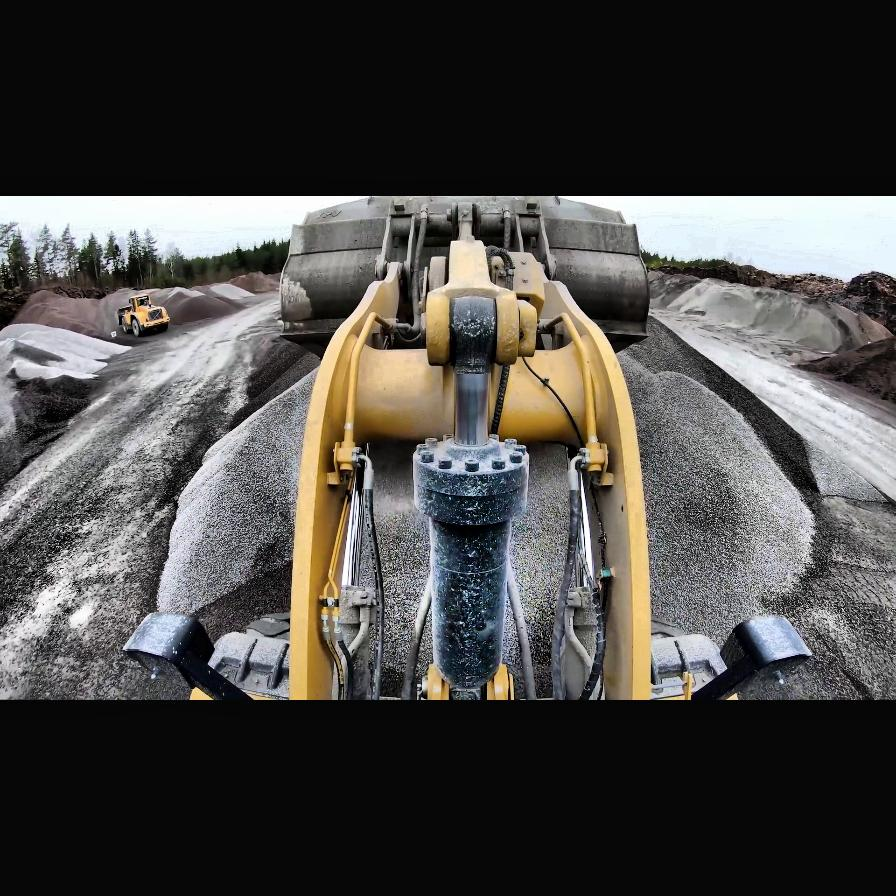anchor: (422, 240, 538, 370)
pile of gravel: (153, 356, 815, 680), (1, 272, 275, 348), (652, 273, 882, 359), (0, 337, 108, 486), (784, 335, 894, 413), (10, 288, 114, 335), (221, 271, 279, 295)
